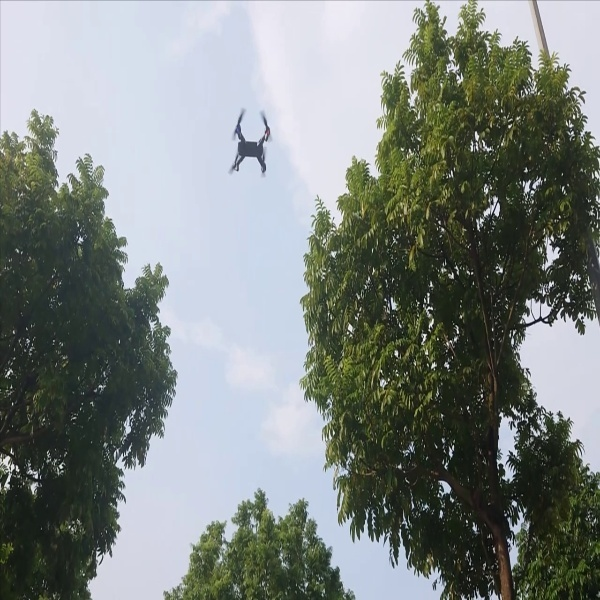drone: (225, 106, 278, 181)
